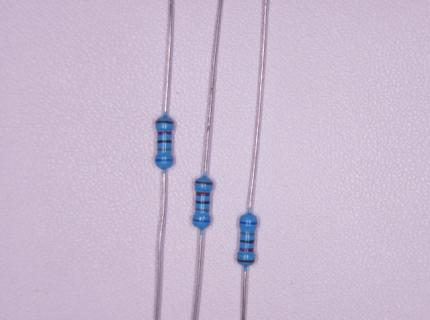Black band: (240, 239, 254, 244), (157, 140, 172, 144), (195, 200, 210, 204)
Blue band: (193, 219, 210, 223), (240, 221, 257, 225), (155, 159, 173, 162)
Brown band: (195, 180, 213, 185), (155, 120, 174, 124), (237, 259, 255, 263)
Grey band: (157, 148, 172, 152), (240, 232, 255, 235), (195, 208, 209, 211)
Red band: (196, 191, 210, 197), (158, 131, 172, 136), (239, 248, 254, 252)
